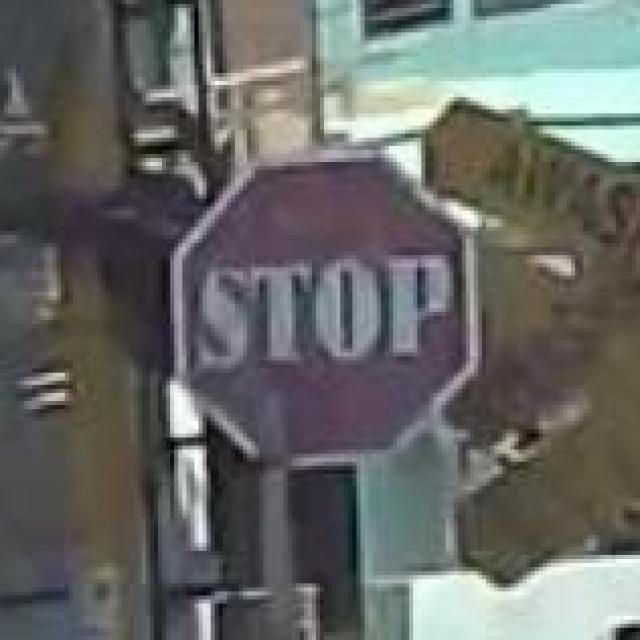traffic sign: (178, 170, 482, 466)
